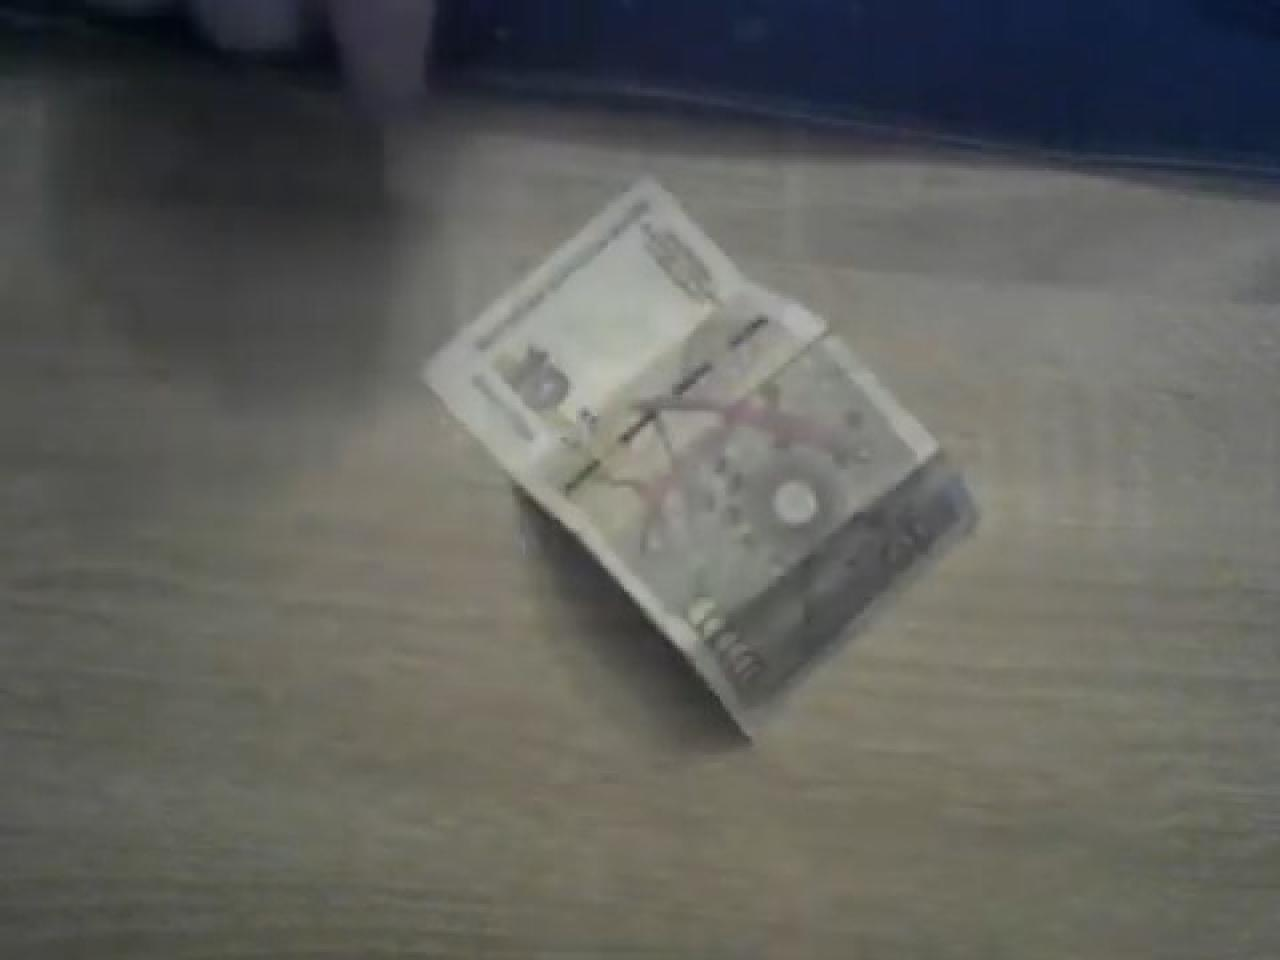10leva: (418, 178, 979, 733)
